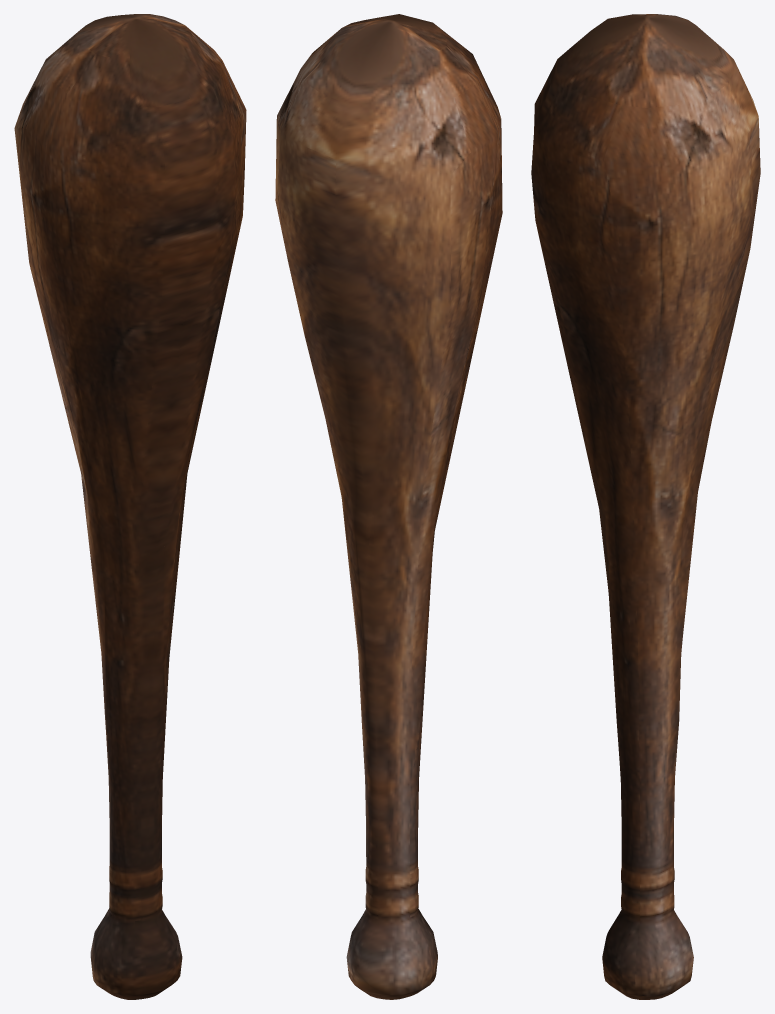
The model's file is mm6_mer1_club.glb.
3 views of the same model, side by side, from view 1: azimuth 30°, elevation 25°; view 2: azimuth 150°, elevation 25°; view 3: azimuth 270°, elevation 25° (orthographic).
Parts seen in each view (by area): view 1: Club; view 2: Club; view 3: Club.
Boxes of the visible parts, bbox=[...] form: Club: bbox=[14, 14, 246, 999]; Club: bbox=[275, 14, 502, 999]; Club: bbox=[531, 14, 760, 999].
Size of the model in its own units: 0.11 by 0.517 by 0.11.
Materials: 1 (1 with a texture image).
